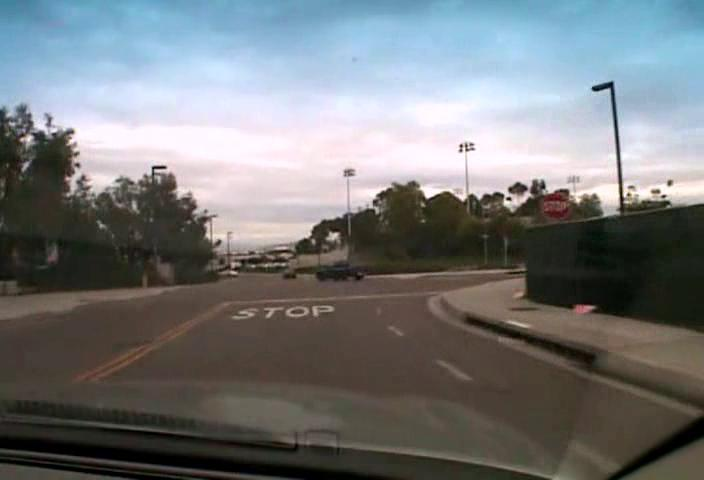stop: (541, 192, 572, 221)
